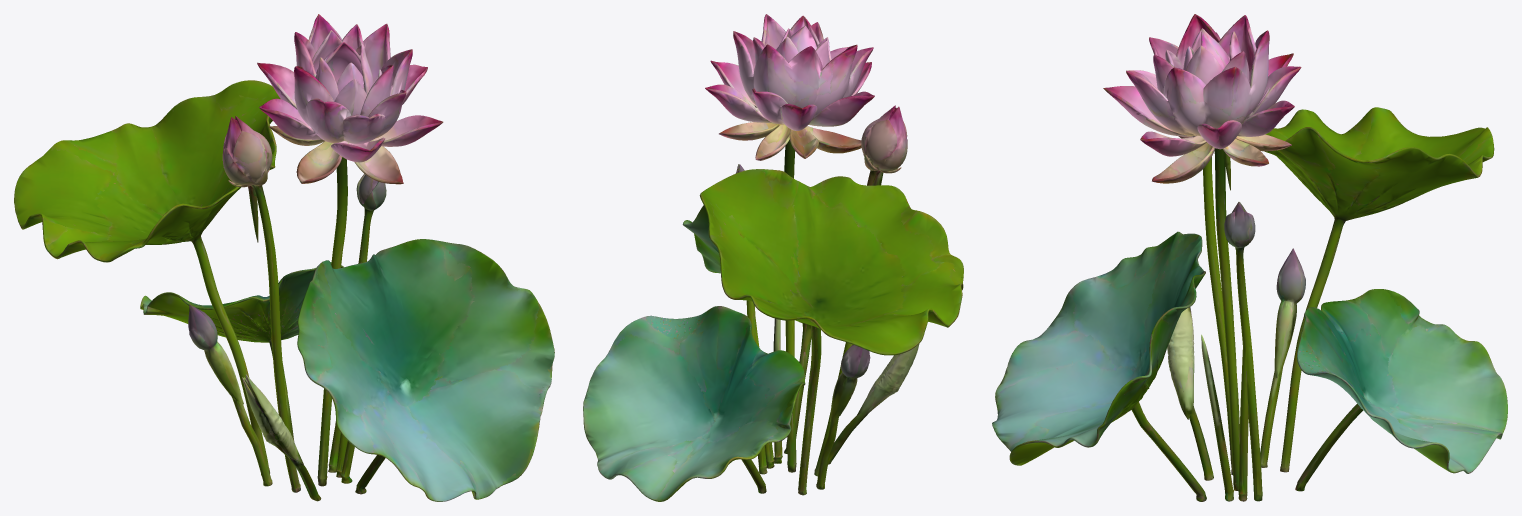
Rendered from HeHua_3.glb.
The picture shows the model from 3 angles, left to right: view 1: azimuth 30°, elevation 25°; view 2: azimuth 150°, elevation 25°; view 3: azimuth 270°, elevation 25°; orthographic projection. The views are drawn at different scales.
Visible parts, largest first — view 1: node_0; view 2: node_0; view 3: node_0.
Part boxes in pixels (x1,y1,x2,y2): node_0: (14,14,554,501); node_0: (583,14,963,501); node_0: (992,14,1507,501).
Bounding box in the file's own units: 0.8289 × 0.9406 × 0.9457.
1 material, 1 textured.
